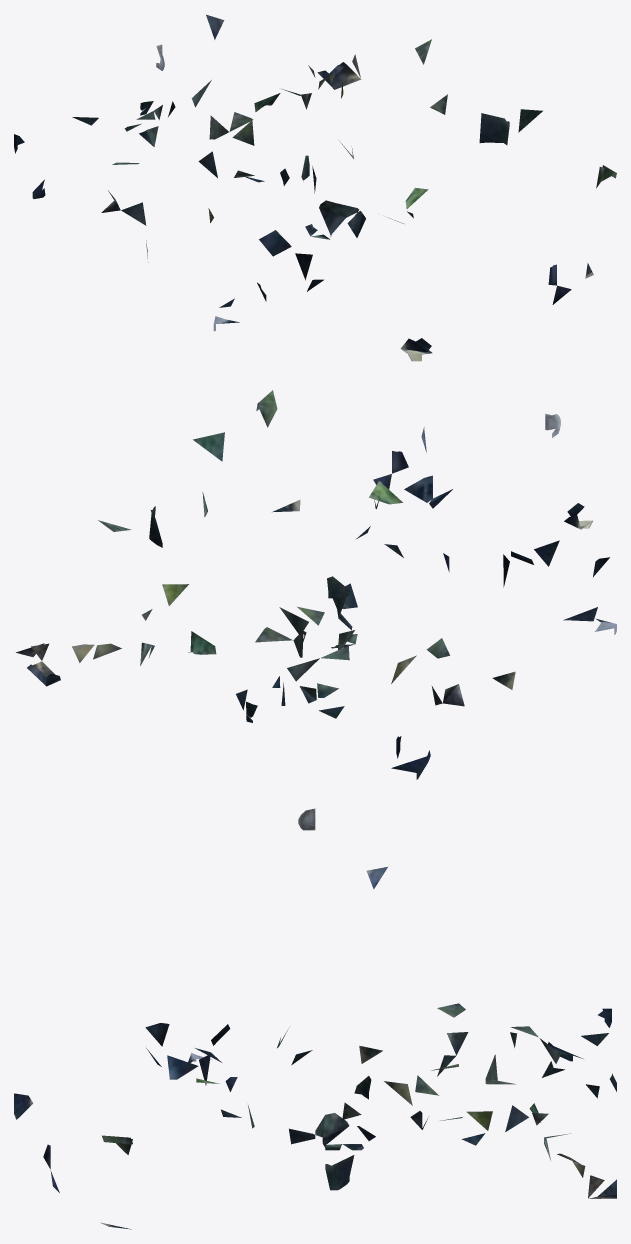
The picture shows the model from 3 angles, top to bottom: view 1: azimuth 30°, elevation 25°; view 2: azimuth 150°, elevation 25°; view 3: azimuth 270°, elevation 25°; orthographic projection. The views are drawn at different scales.
Parts seen in each view (by area): view 1: 3043627270437043651_1; view 2: 3043627270437043651_1; view 3: 3043627270437043651_1.
Boxes of the visible parts, box(x1,y1,x2,y2) form: 3043627270437043651_1: box(14, 14, 616, 361); 3043627270437043651_1: box(16, 390, 616, 779); 3043627270437043651_1: box(14, 808, 616, 1229).
Bounding box in the file's own units: 54.64 × 35.44 × 76.52.
Materials: 1 (1 with a texture image).
